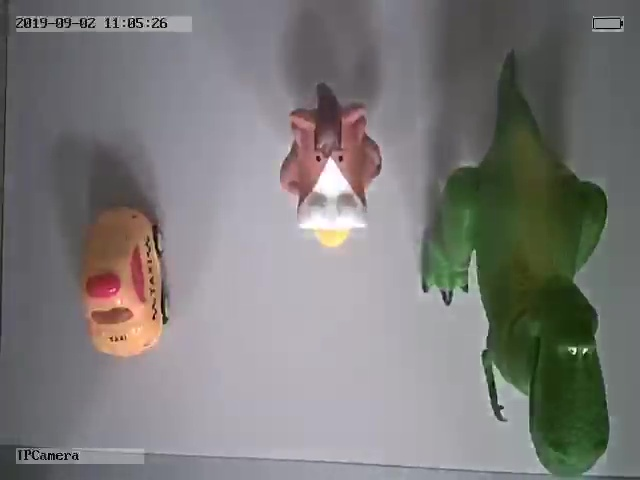car: (81, 203, 171, 358)
horse: (278, 83, 383, 249)
rex: (421, 66, 609, 476)
